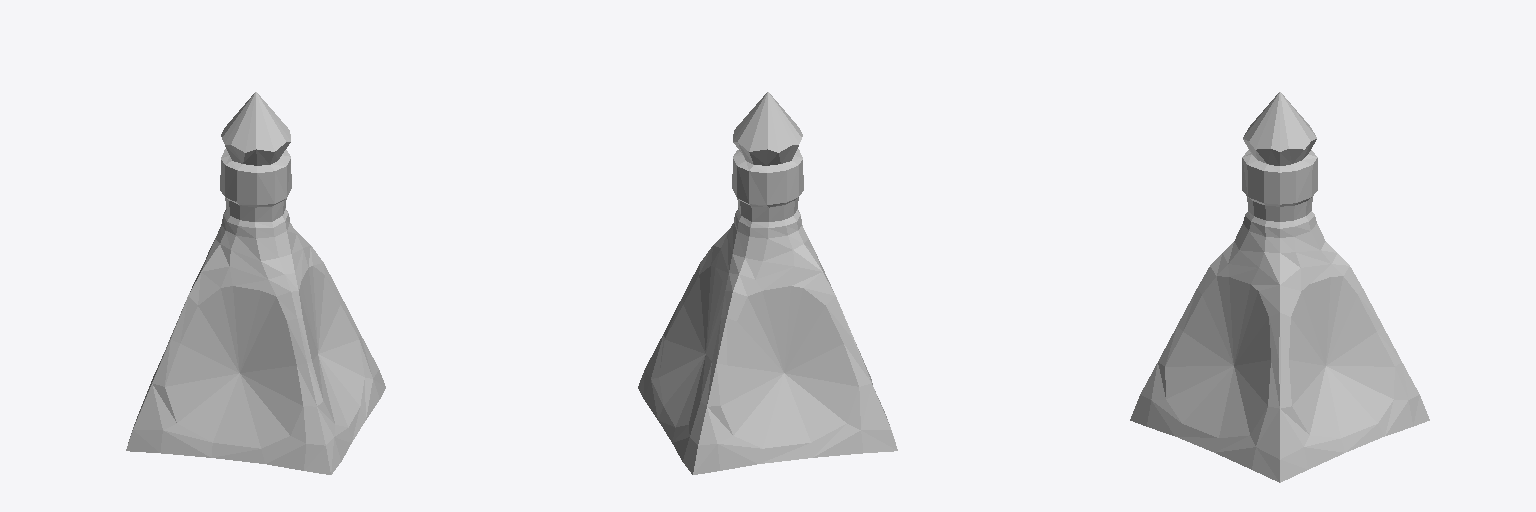
Rendered from potion_mana.obj.
The picture shows the model from 3 angles: view 1: azimuth 30°, elevation 25°; view 2: azimuth 150°, elevation 25°; view 3: azimuth 270°, elevation 25°; orthographic projection.
Parts seen in each view (by area): view 1: potion_mana; view 2: potion_mana; view 3: potion_mana.
Boxes of the visible parts, x1=… form: potion_mana: x1=126, y1=92, x2=385, y2=474; potion_mana: x1=638, y1=92, x2=897, y2=474; potion_mana: x1=1130, y1=92, x2=1429, y2=482.
Size of the model in its own units: 4.05 by 4.9 by 4.05.